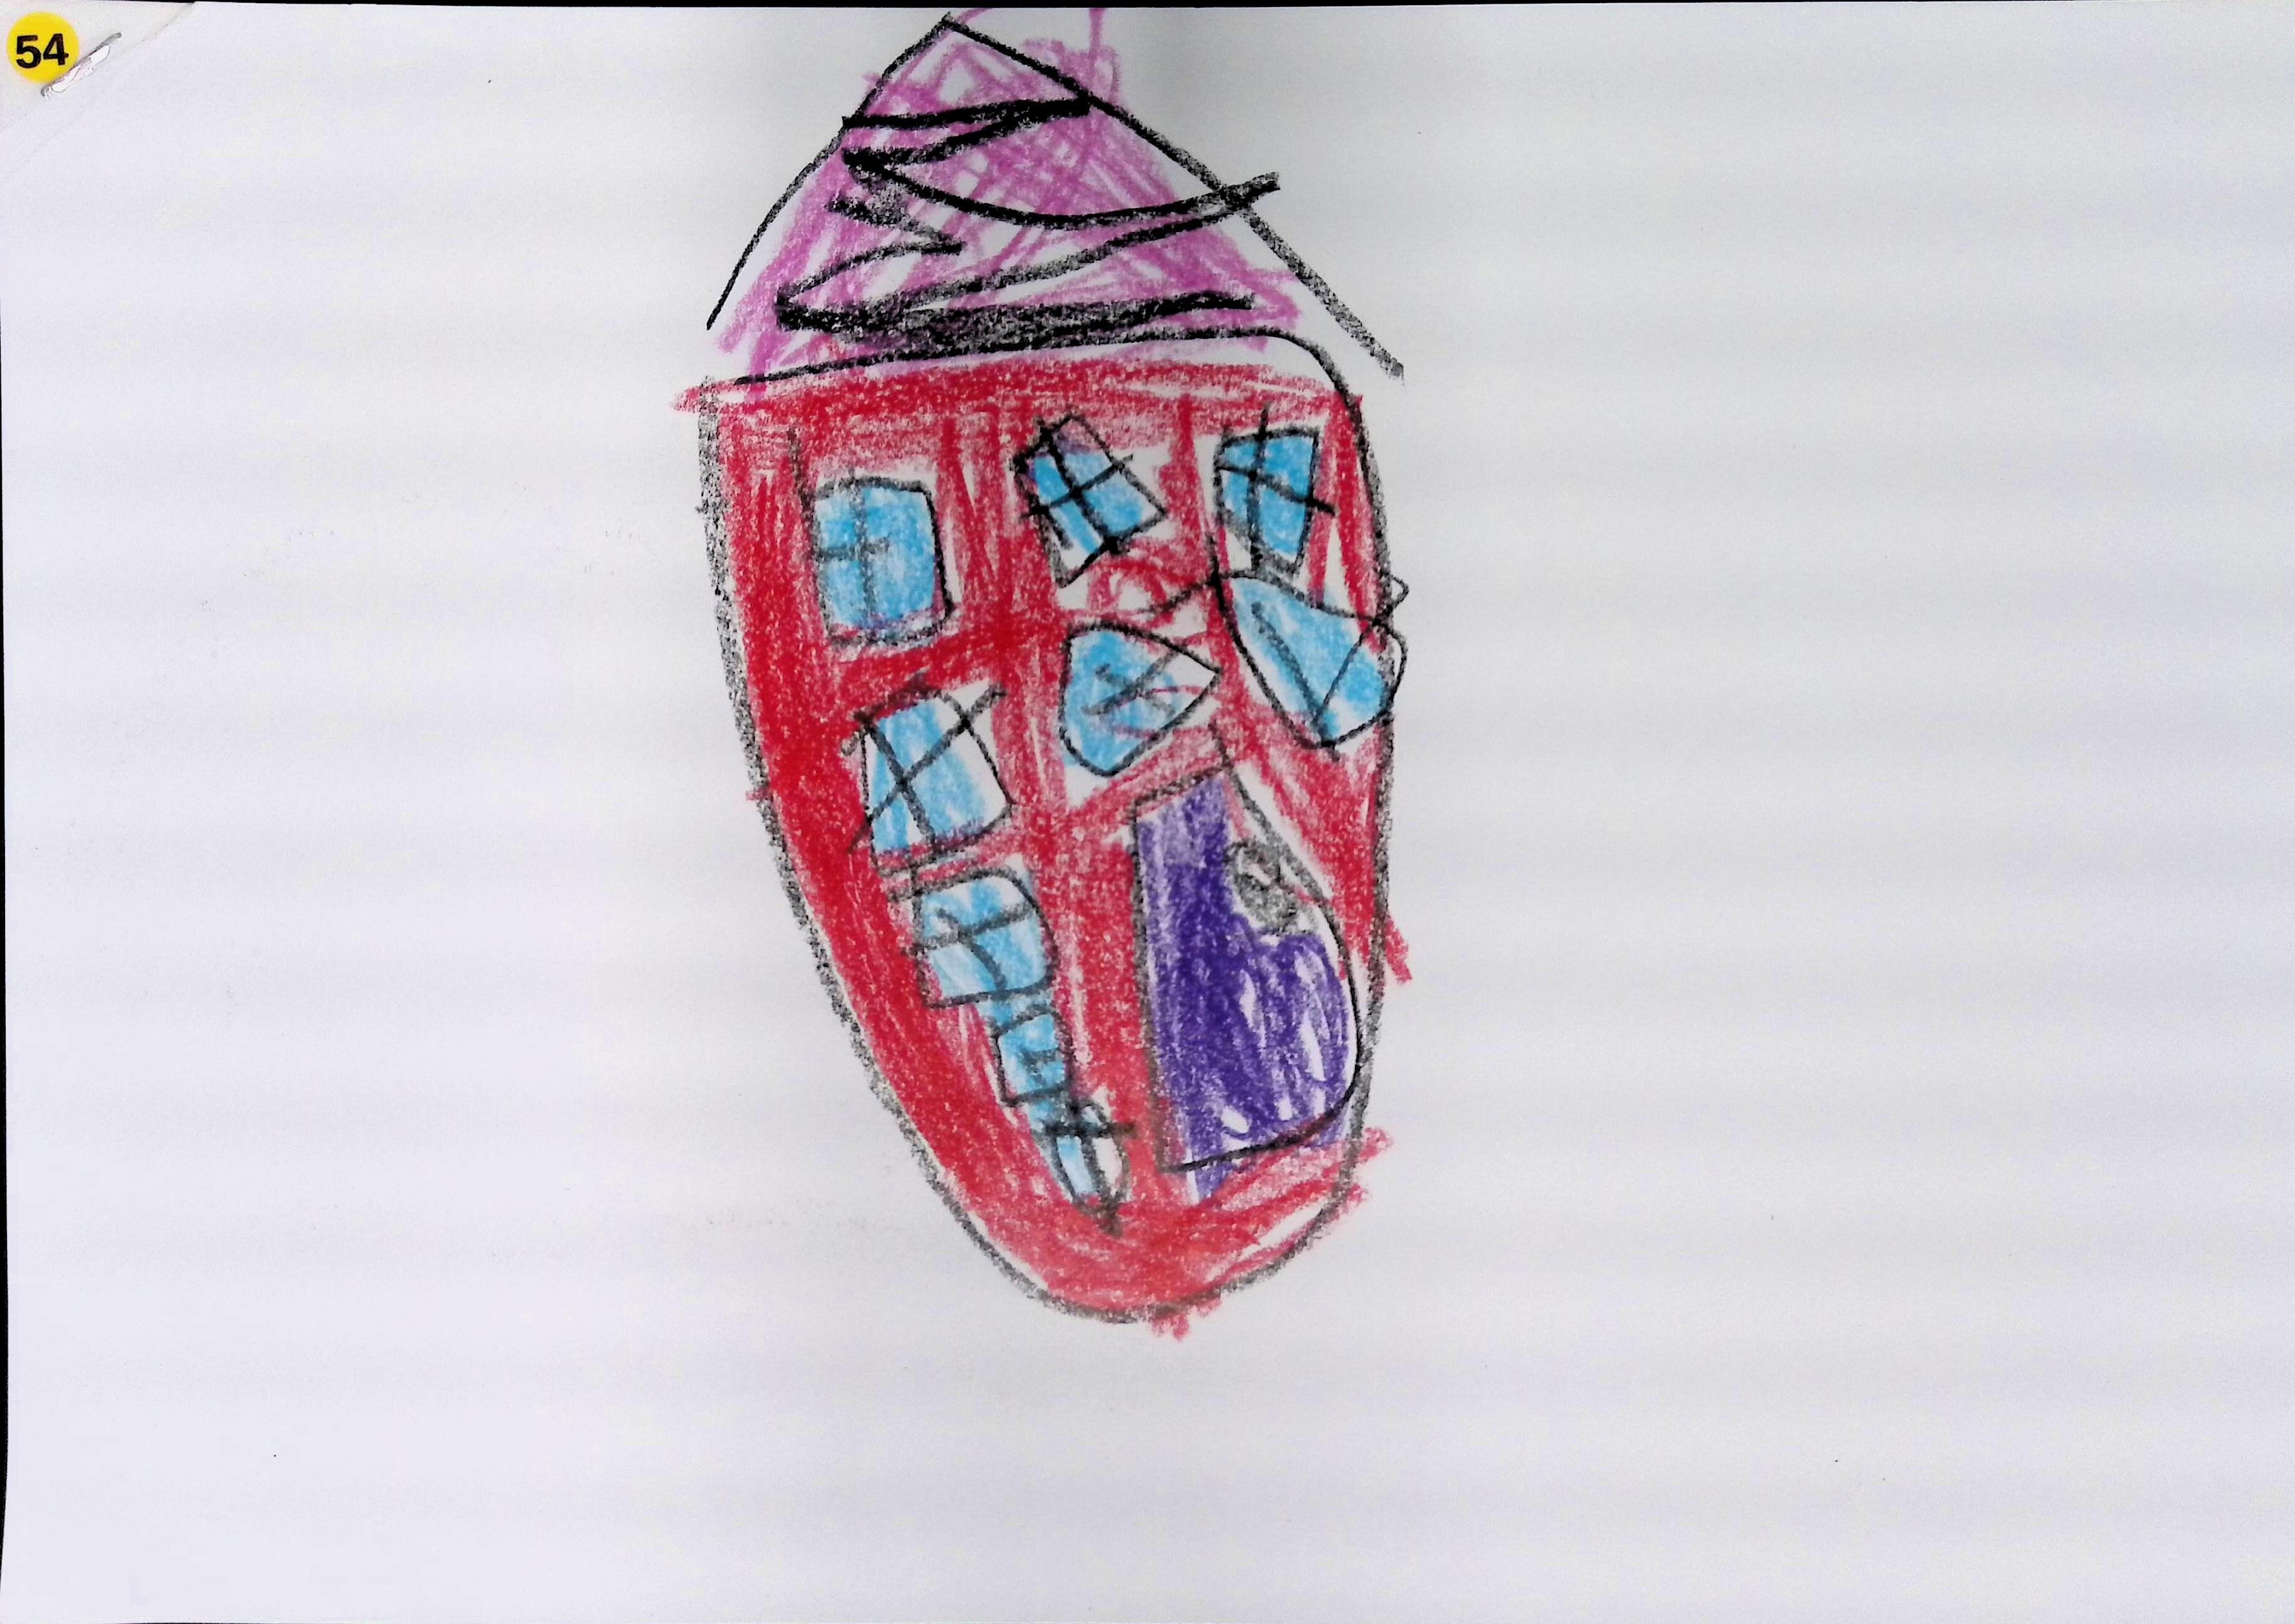door: (1132, 754, 1372, 1178)
house: (691, 16, 1404, 1325)
roof: (678, 14, 1395, 401)
wall: (696, 329, 1388, 1329)
window: (1228, 573, 1395, 743), (900, 859, 1063, 1021), (1017, 413, 1165, 584), (865, 694, 1009, 859), (1061, 626, 1218, 775), (814, 478, 944, 638), (1216, 425, 1320, 573), (1044, 1086, 1135, 1227), (988, 991, 1075, 1107)
